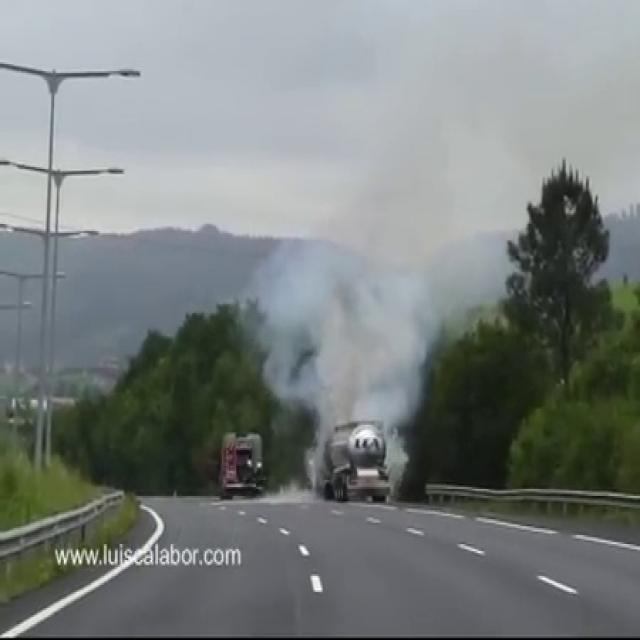Smoke: (250, 140, 465, 478)
